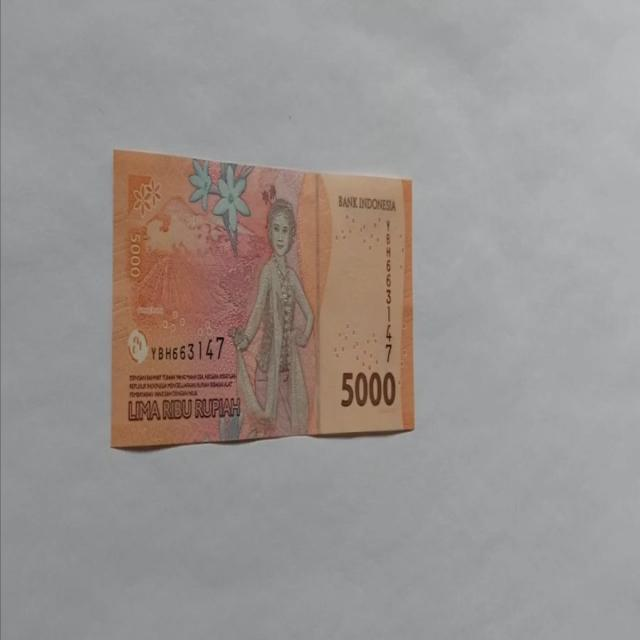lima ribu rupiah: (110, 147, 415, 449), (227, 196, 315, 438)
